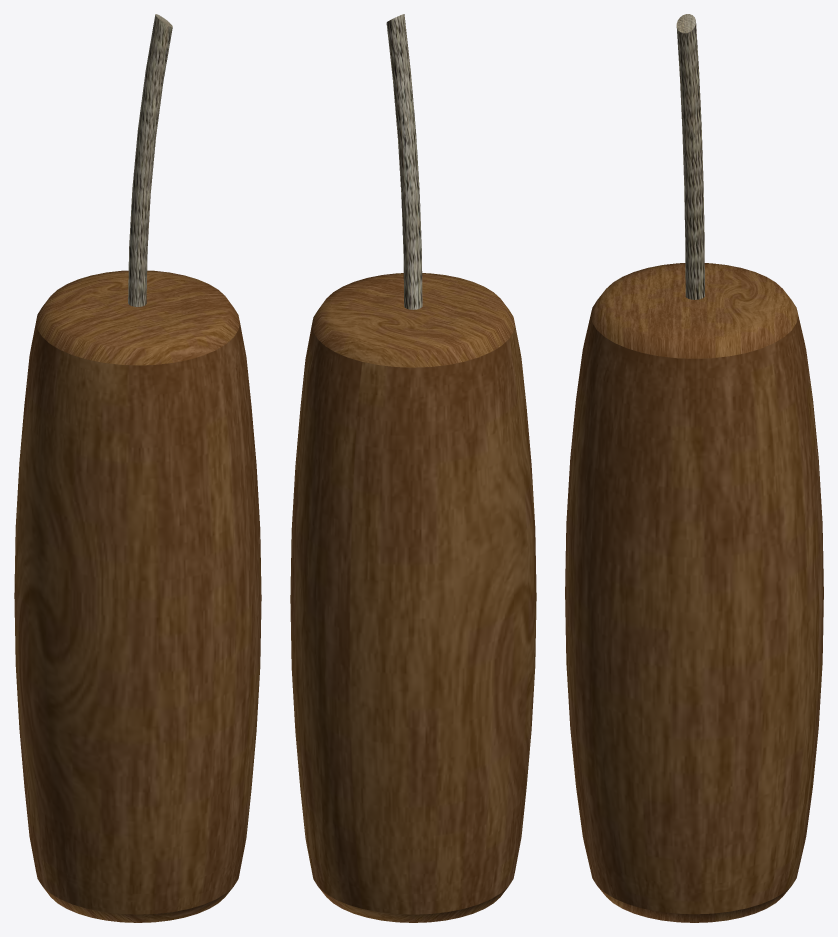
File: wood bag.FBX
3 views of the same model, side by side, from view 1: azimuth 30°, elevation 25°; view 2: azimuth 150°, elevation 25°; view 3: azimuth 270°, elevation 25° (orthographic).
Visible parts, largest first — view 1: Cylinder001, Cylinder002; view 2: Cylinder001, Cylinder002; view 3: Cylinder001, Cylinder002.
Part boxes in pixels (<box>): Cylinder001: <box>14,270,261,922</box>; Cylinder002: <box>128,14,172,306</box>; Cylinder001: <box>290,273,536,922</box>; Cylinder002: <box>386,14,422,309</box>; Cylinder001: <box>565,263,823,922</box>; Cylinder002: <box>676,14,704,299</box>.
Bounding box in the file's own units: 54.37 × 216 × 56.99.
